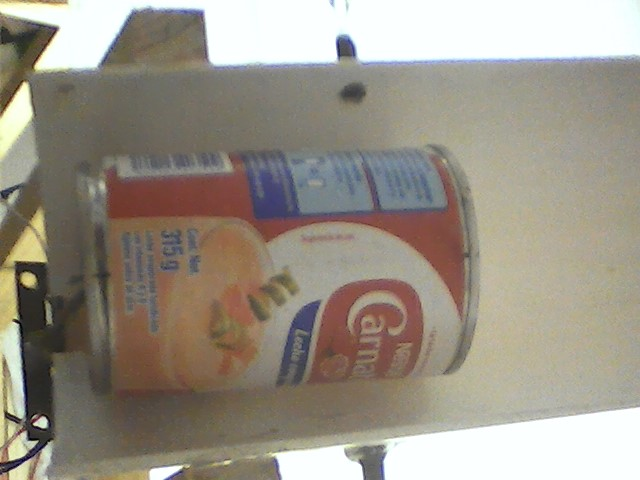lata: (66, 143, 491, 404)
